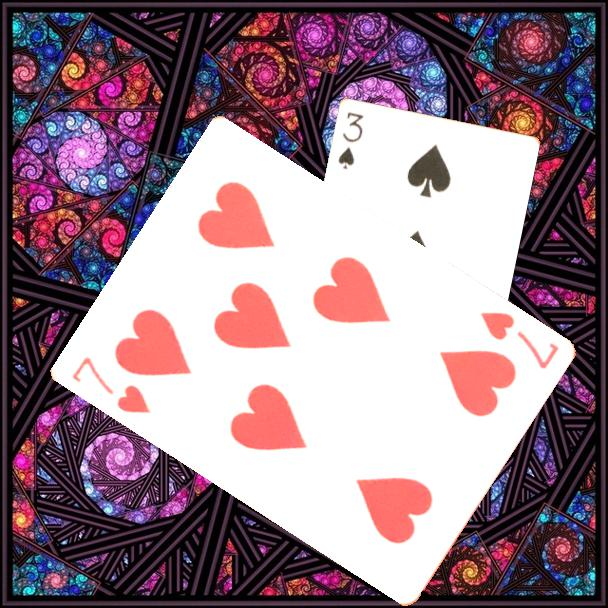h07: (476, 308, 561, 372), (68, 353, 152, 417)
s03: (334, 108, 366, 171)
